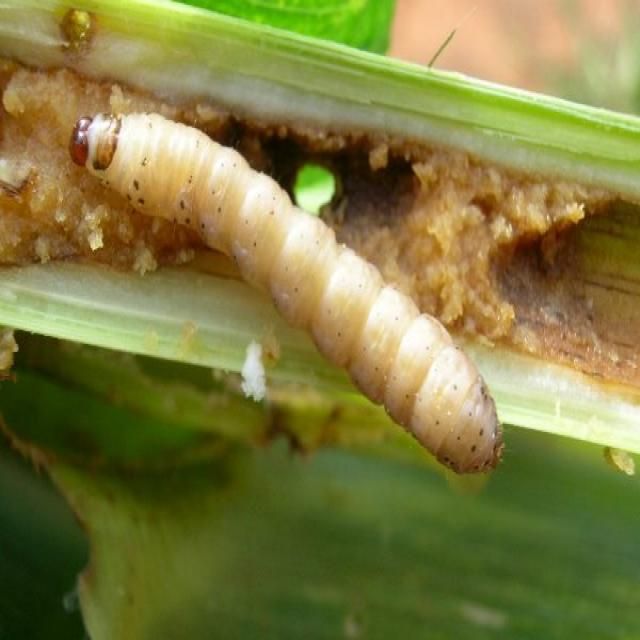cornborer-Larva-: (58, 96, 538, 508)
